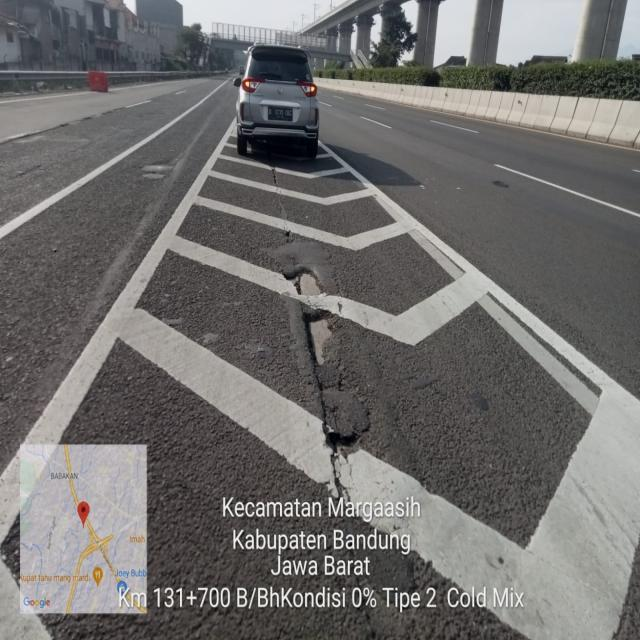Buraco: (299, 307, 341, 370), (320, 421, 374, 459), (277, 265, 329, 297), (490, 178, 512, 191)
